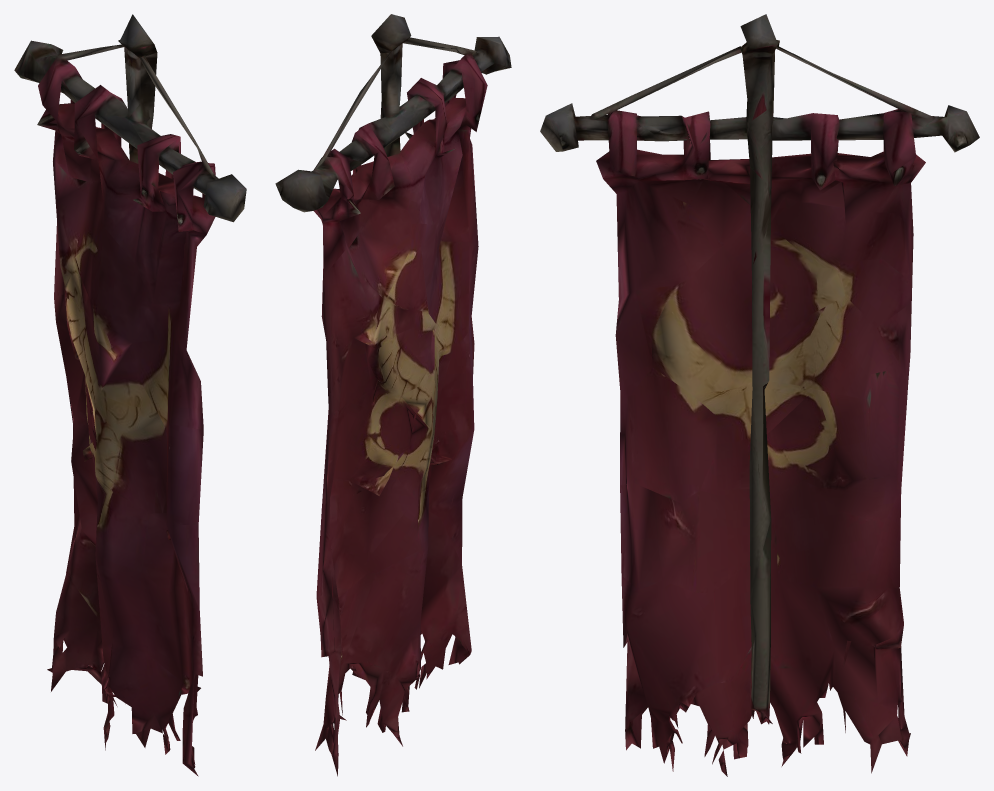
Rendered from hall-banner.glb.
The picture shows the model from 3 angles, left to right: view 1: azimuth 30°, elevation 25°; view 2: azimuth 150°, elevation 25°; view 3: azimuth 270°, elevation 25°; orthographic projection. The views are drawn at different scales.
Visible parts, largest first — view 1: tripo_node_79b2bd29-1b25-4e7b-b688-28016fda2643; view 2: tripo_node_79b2bd29-1b25-4e7b-b688-28016fda2643; view 3: tripo_node_79b2bd29-1b25-4e7b-b688-28016fda2643.
Boxes of the visible parts, <box> form: tripo_node_79b2bd29-1b25-4e7b-b688-28016fda2643: <box>14,14,246,776</box>; tripo_node_79b2bd29-1b25-4e7b-b688-28016fda2643: <box>275,14,511,776</box>; tripo_node_79b2bd29-1b25-4e7b-b688-28016fda2643: <box>540,14,979,776</box>.
Size of the model in its own units: 0.0978 by 0.9757 by 0.5096.
Materials: 1 (1 with a texture image).
